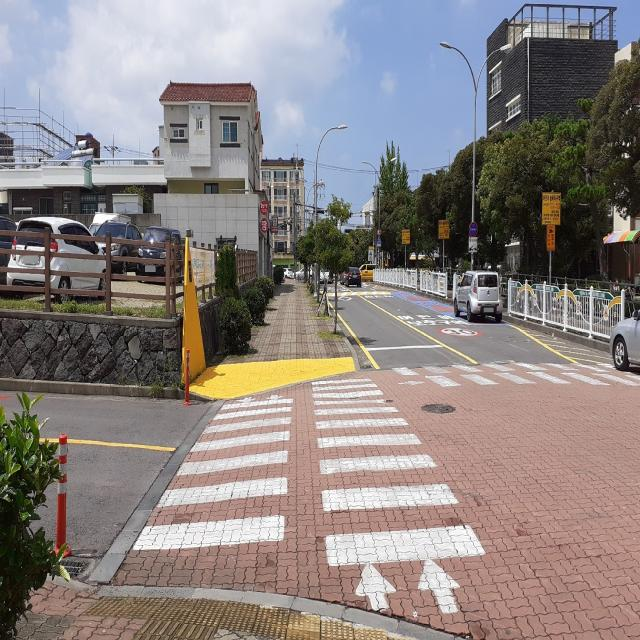횡단보도: (130, 375, 488, 618)
